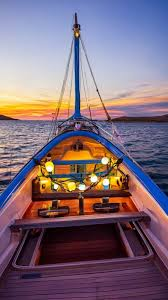boat: (1, 12, 168, 300)
